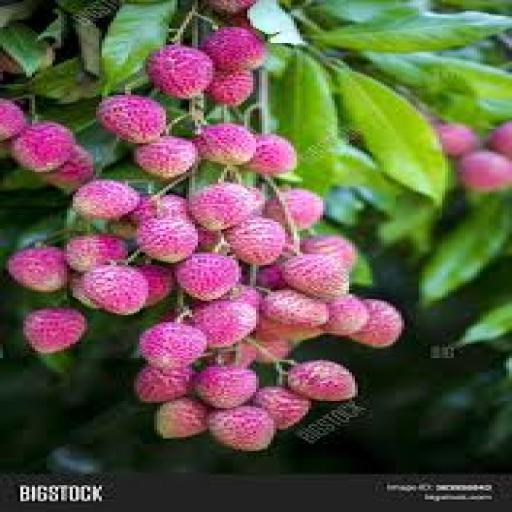lychee: (146, 45, 212, 98), (96, 95, 165, 143), (82, 265, 148, 315), (192, 299, 258, 347), (175, 253, 241, 300), (12, 122, 75, 171), (207, 407, 276, 451), (140, 323, 206, 368), (224, 217, 287, 264), (190, 183, 253, 230), (201, 27, 267, 71), (283, 255, 349, 298), (288, 360, 357, 401), (24, 308, 87, 352), (6, 248, 69, 291), (195, 366, 258, 408), (134, 137, 197, 179), (137, 219, 197, 263), (73, 180, 139, 220), (350, 299, 404, 347), (64, 233, 127, 272), (195, 124, 255, 164), (254, 387, 311, 429), (262, 291, 328, 327), (41, 146, 93, 191), (265, 188, 322, 229), (134, 366, 194, 402), (155, 398, 209, 438), (460, 151, 511, 191), (245, 135, 296, 175), (323, 294, 369, 336), (300, 235, 357, 268), (131, 194, 189, 223), (137, 264, 174, 306), (207, 72, 253, 105), (434, 124, 479, 157), (254, 333, 293, 363), (0, 99, 26, 141), (70, 274, 98, 309), (227, 285, 261, 309), (489, 122, 511, 159), (256, 264, 287, 290), (207, 0, 255, 14)
